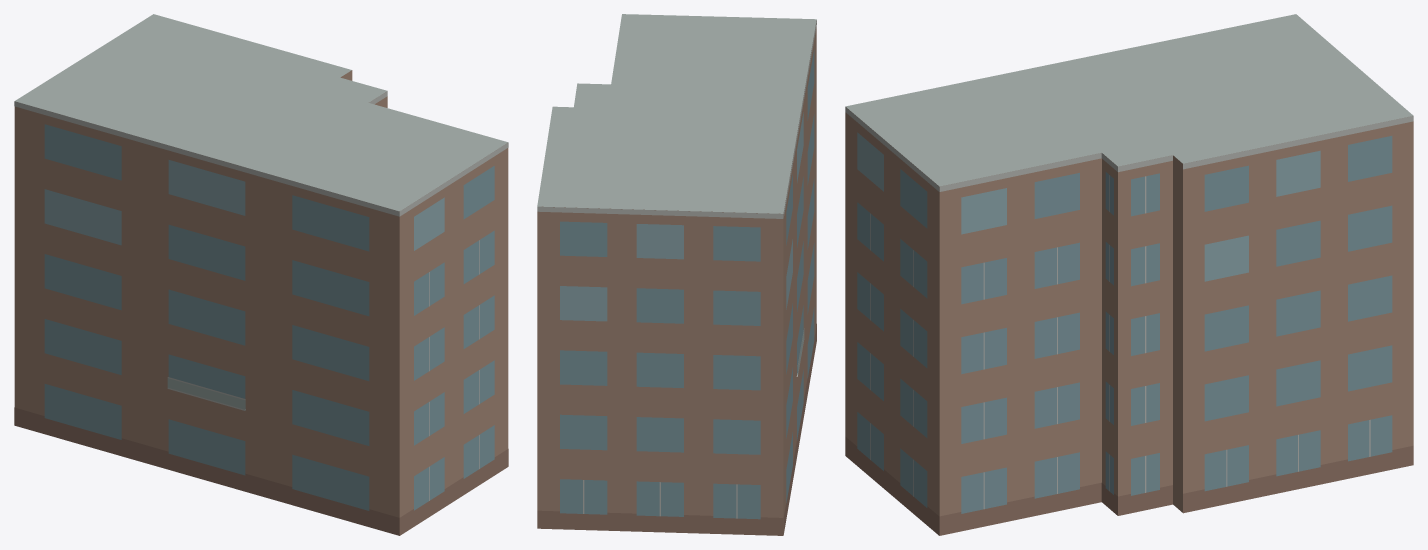
The model's file is survey-upis-32640836.glb.
3 views of the same model, side by side, from view 1: azimuth 30°, elevation 25°; view 2: azimuth 150°, elevation 25°; view 3: azimuth 270°, elevation 25° (orthographic). The views are drawn at different scales.
Visible parts, largest first — view 1: survey-upis-32640836.tmp; view 2: survey-upis-32640836.tmp; view 3: survey-upis-32640836.tmp.
Part boxes in pixels (bbox=[...]): survey-upis-32640836.tmp: bbox=[14, 14, 508, 535]; survey-upis-32640836.tmp: bbox=[537, 14, 816, 535]; survey-upis-32640836.tmp: bbox=[845, 14, 1413, 535].
Bounding box in the file's own units: 16.16 × 15.25 × 22.49.
